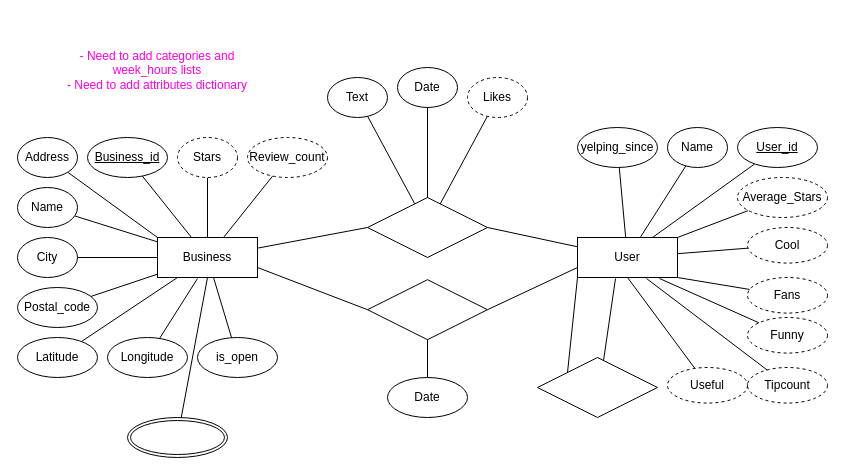
Some shapes in this 845 by 475 pixel diagram are drawn without their labels. The shapes that lost their labels are listed below. From the top down, each one's centre as x and y in pixels, then its label:
At point (427, 227): "Give_Tip".
At point (427, 309): "Checks_in".
At point (597, 387): "is_Friends_With".
At point (177, 437): "Categories".
